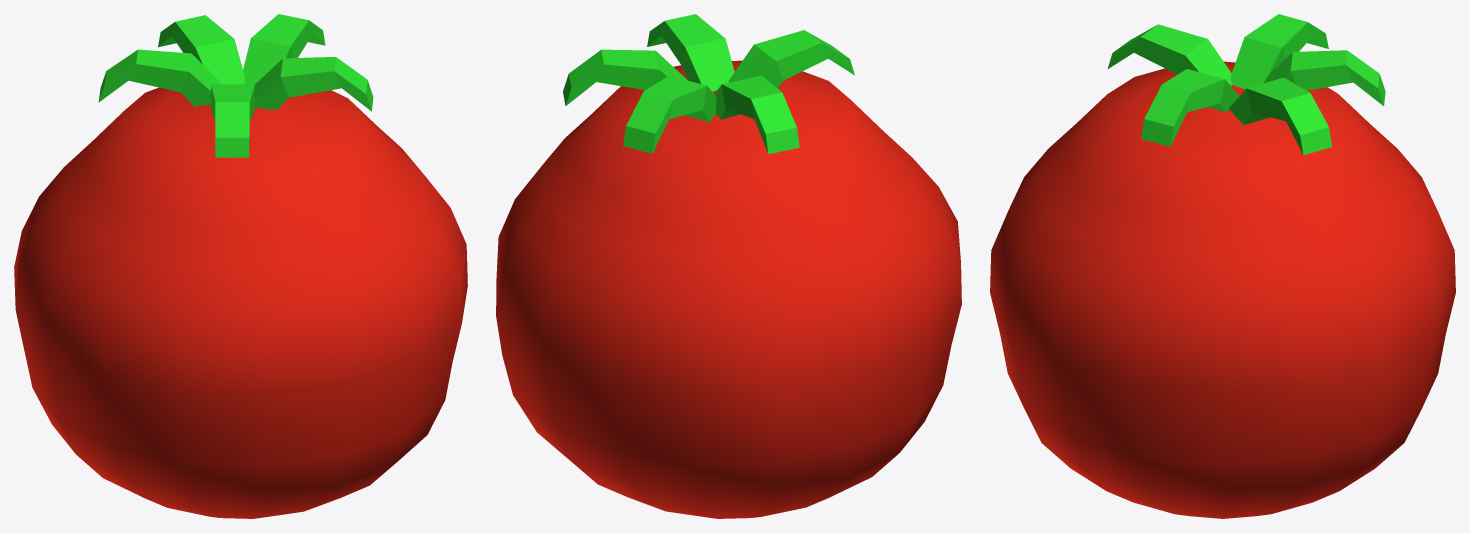
File: tomatoes.fbx
3 views of the same model, side by side, from view 1: azimuth 30°, elevation 25°; view 2: azimuth 150°, elevation 25°; view 3: azimuth 270°, elevation 25° (orthographic). The views are drawn at different scales.
Parts seen in each view (by area): view 1: Sphere.003, Cube, Cube.003, Cube.002, Cube.001, Cube.004; view 2: Sphere.003, Cube.002, Cube, Cube.003, Cube.004, Cube.001; view 3: Sphere.003, Cube.001, Cube, Cube.003, Cube.004, Cube.002.
Boxes of the visible parts, bbox=[...] form: Sphere.003: bbox=[14, 87, 467, 518]; Cube: bbox=[255, 57, 373, 111]; Cube.003: bbox=[98, 49, 221, 106]; Cube.002: bbox=[158, 15, 244, 84]; Cube.001: bbox=[243, 14, 325, 84]; Cube.004: bbox=[211, 84, 254, 157]; Sphere.003: bbox=[496, 60, 961, 518]; Cube.002: bbox=[623, 75, 716, 153]; Cube: bbox=[647, 14, 734, 91]; Cube.003: bbox=[714, 75, 799, 154]; Cube.004: bbox=[728, 30, 854, 88]; Cube.001: bbox=[563, 49, 687, 105]; Sphere.003: bbox=[990, 61, 1455, 518]; Cube.001: bbox=[1229, 77, 1332, 155]; Cube: bbox=[1141, 69, 1239, 146]; Cube.003: bbox=[1230, 14, 1328, 89]; Cube.004: bbox=[1107, 24, 1231, 85]; Cube.002: bbox=[1263, 50, 1385, 105].
Bounding box in the file's own units: 383 × 403 × 383.
